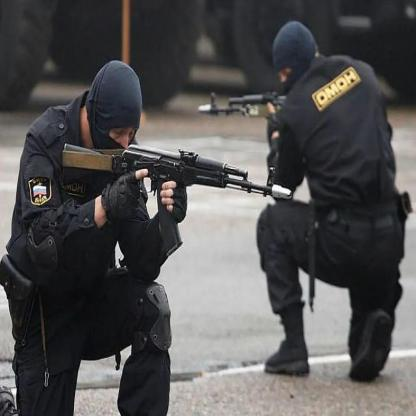rifle: (60, 138, 296, 255), (197, 88, 293, 121)
